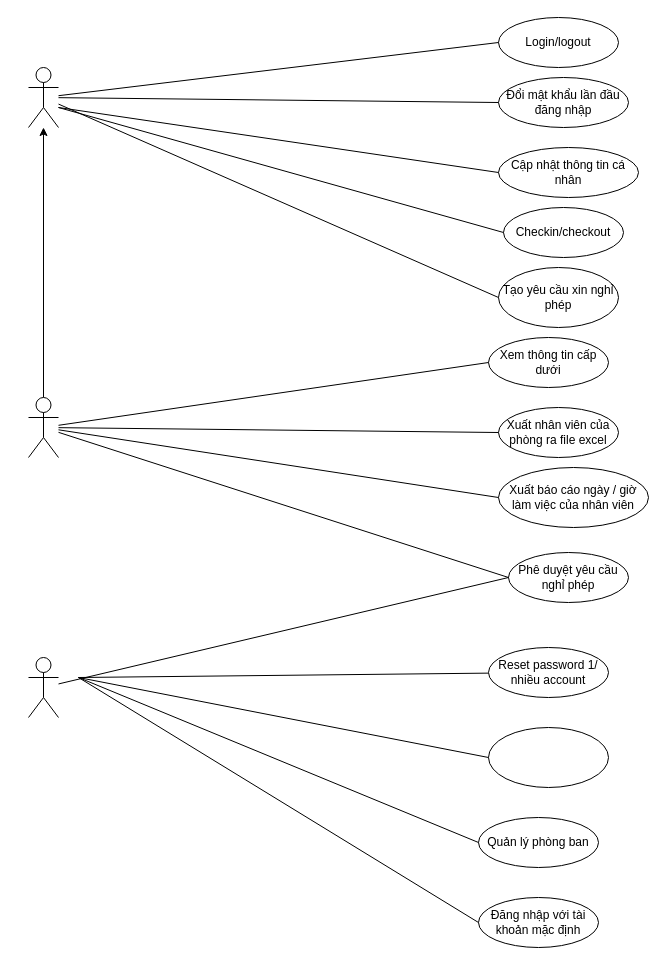
The diagram is 666 pixels wide and 965 high, and some of its shapes have lost their labels. Here are the shapes that lost their labels. From the top down, the box of each, then its label:
(28, 66, 58, 128): Employee
(28, 396, 58, 458): Manager
(28, 656, 58, 718): Root
(488, 726, 608, 788): Quản lý nhân viên
